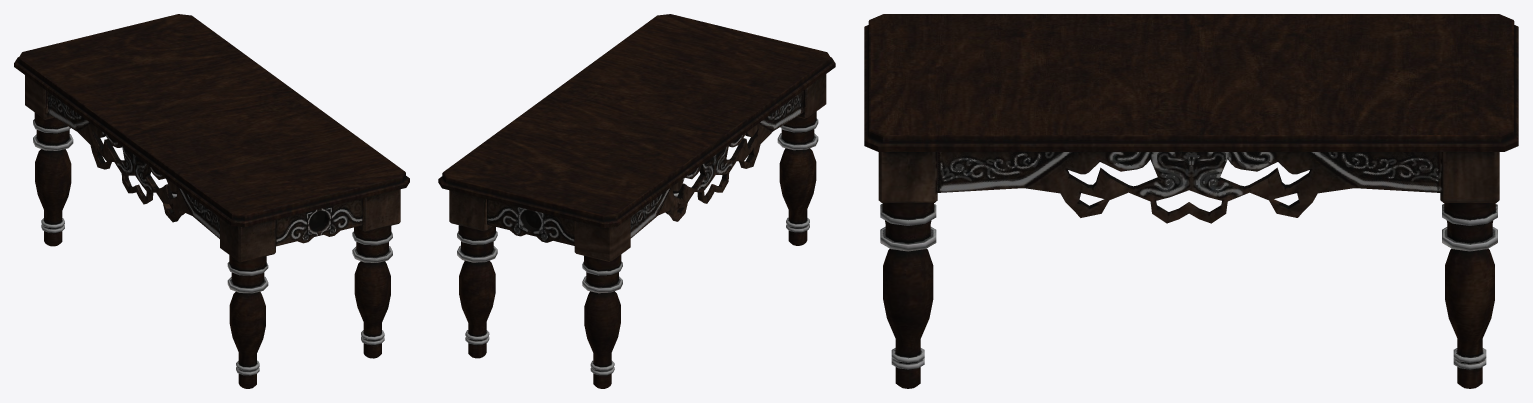
The model's file is coffee_table.fbx.
The picture shows the model from 3 angles, left to right: view 1: azimuth 30°, elevation 25°; view 2: azimuth 150°, elevation 25°; view 3: azimuth 270°, elevation 25°; orthographic projection. The views are drawn at different scales.
Visible parts, largest first — view 1: coffe_table; view 2: coffe_table; view 3: coffe_table.
Boxes of the visible parts, <box> form: coffe_table: <box>14,14,409,388</box>; coffe_table: <box>438,14,835,388</box>; coffe_table: <box>864,14,1518,388</box>.
Bounding box in the file's own units: 74.87 × 73.89 × 164.
